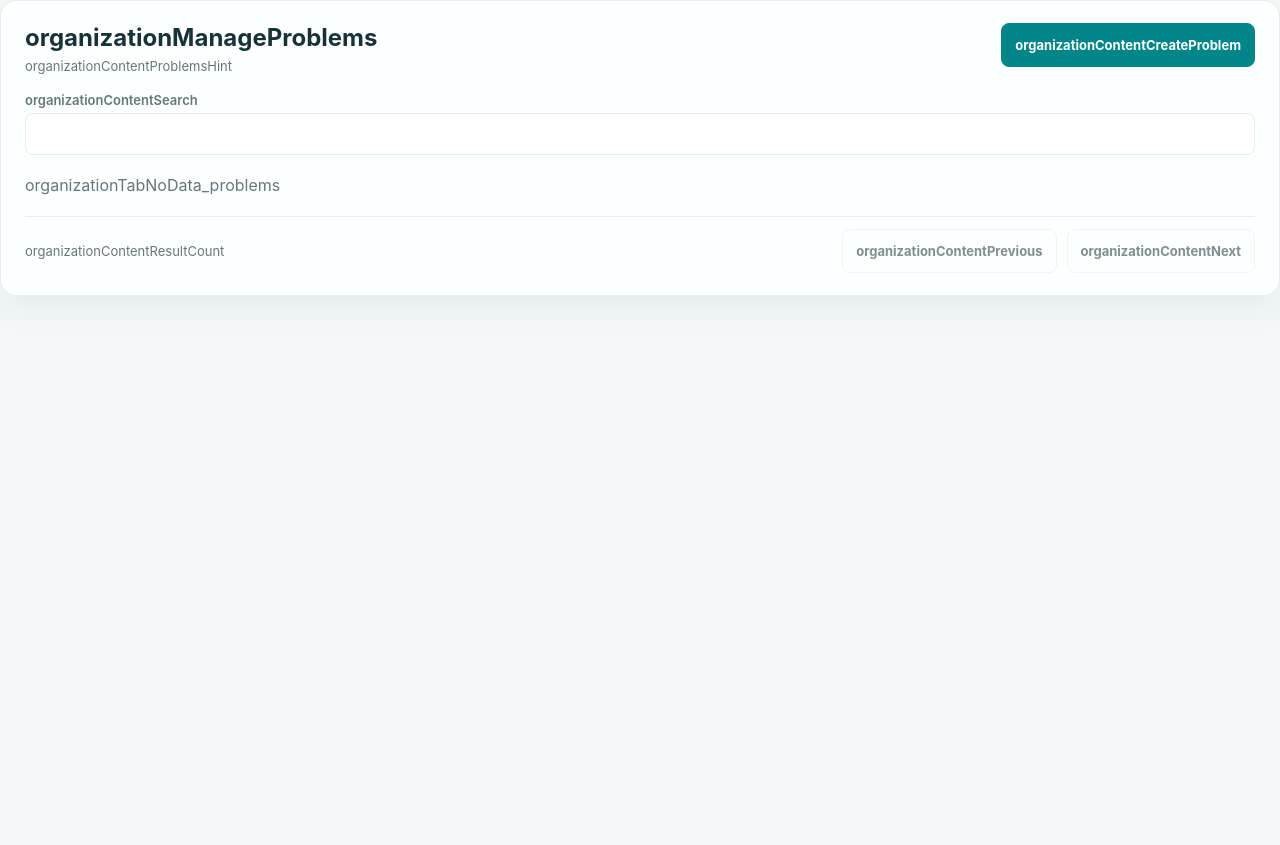
it: OrganizationContentPanel create interactions › uses the Admin detail problem-form layout without changing the existing fields
This screenshot has width=1280, height=845.
What coordinates should you click on to do the following:
click the button "organizationContentCreateProblem"
I would click on:
 (1128, 45)
Its box is [1001,23,1255,67].
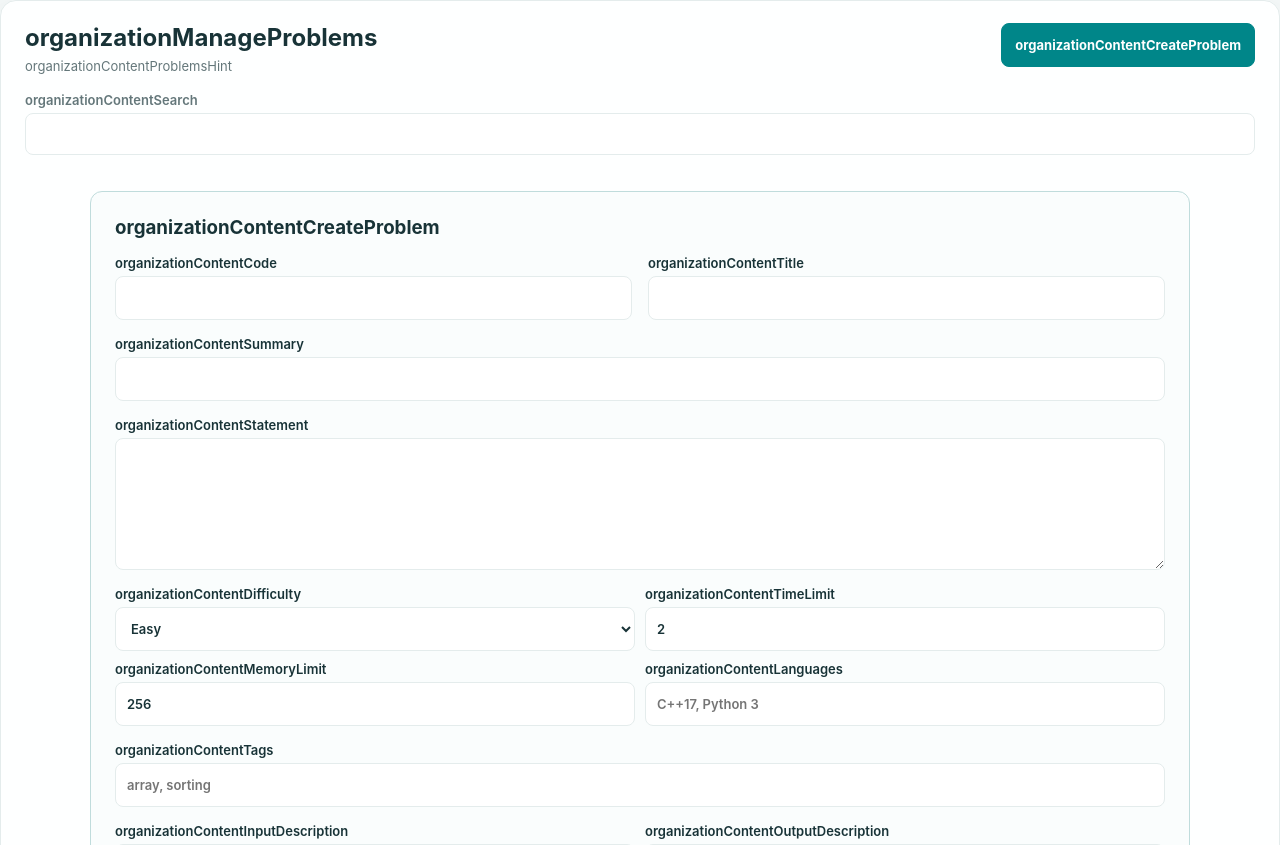
Expected: the text "organizationContentStatement" is shown, [115,417,1165,570]
